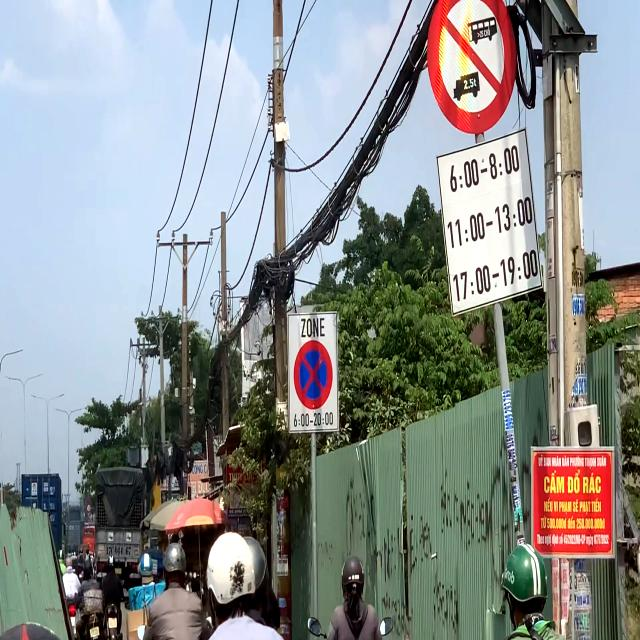P.130: (292, 338, 334, 411)
